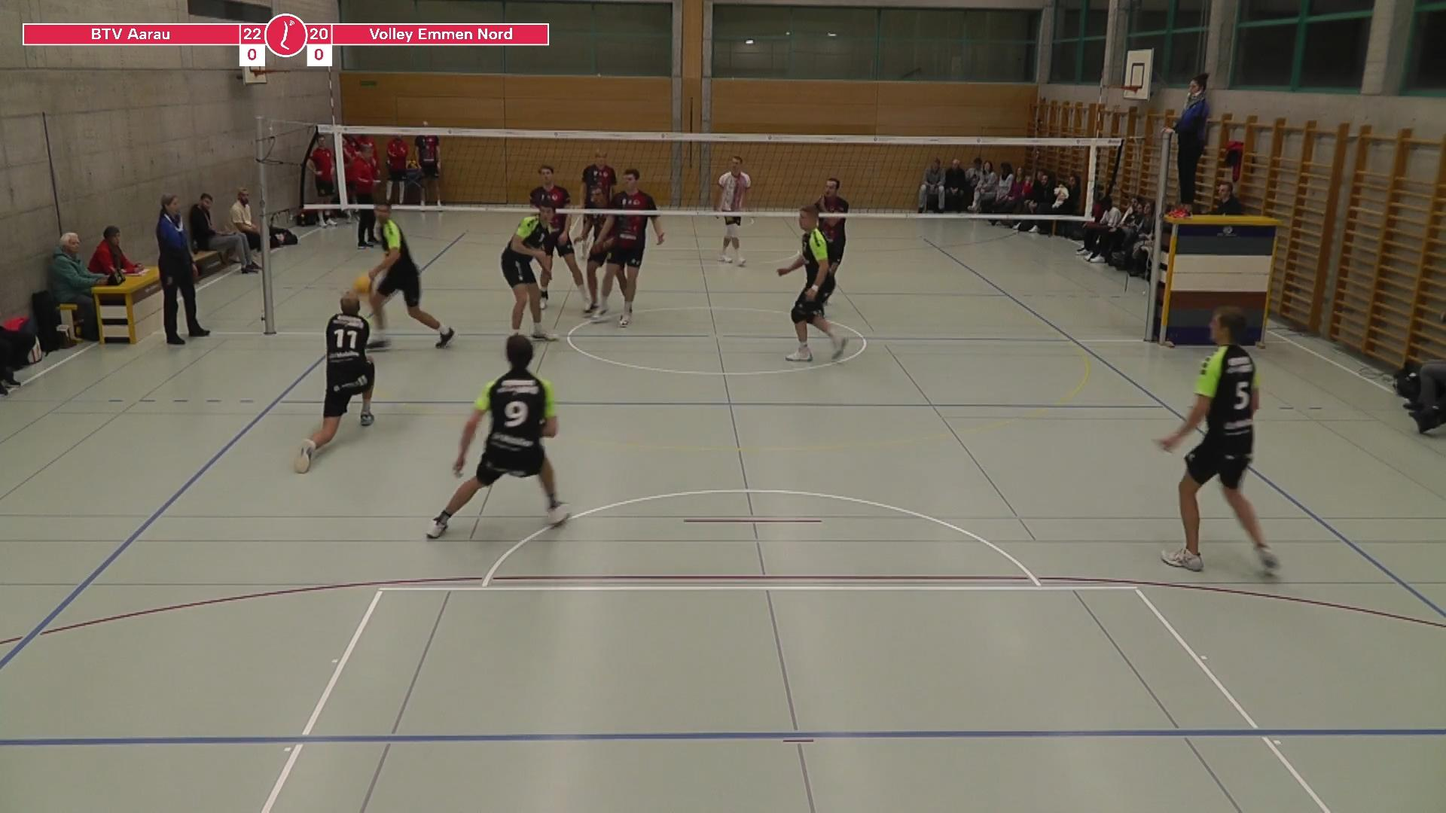Dig: (288, 288, 383, 481)
Player: (1158, 306, 1277, 571), (427, 335, 569, 538), (368, 202, 454, 349), (593, 169, 664, 327), (777, 205, 847, 361), (529, 165, 583, 309), (501, 200, 555, 340), (574, 213, 610, 316), (816, 178, 849, 272), (415, 136, 441, 206), (718, 215, 746, 266)
ball: (348, 270, 377, 300)
